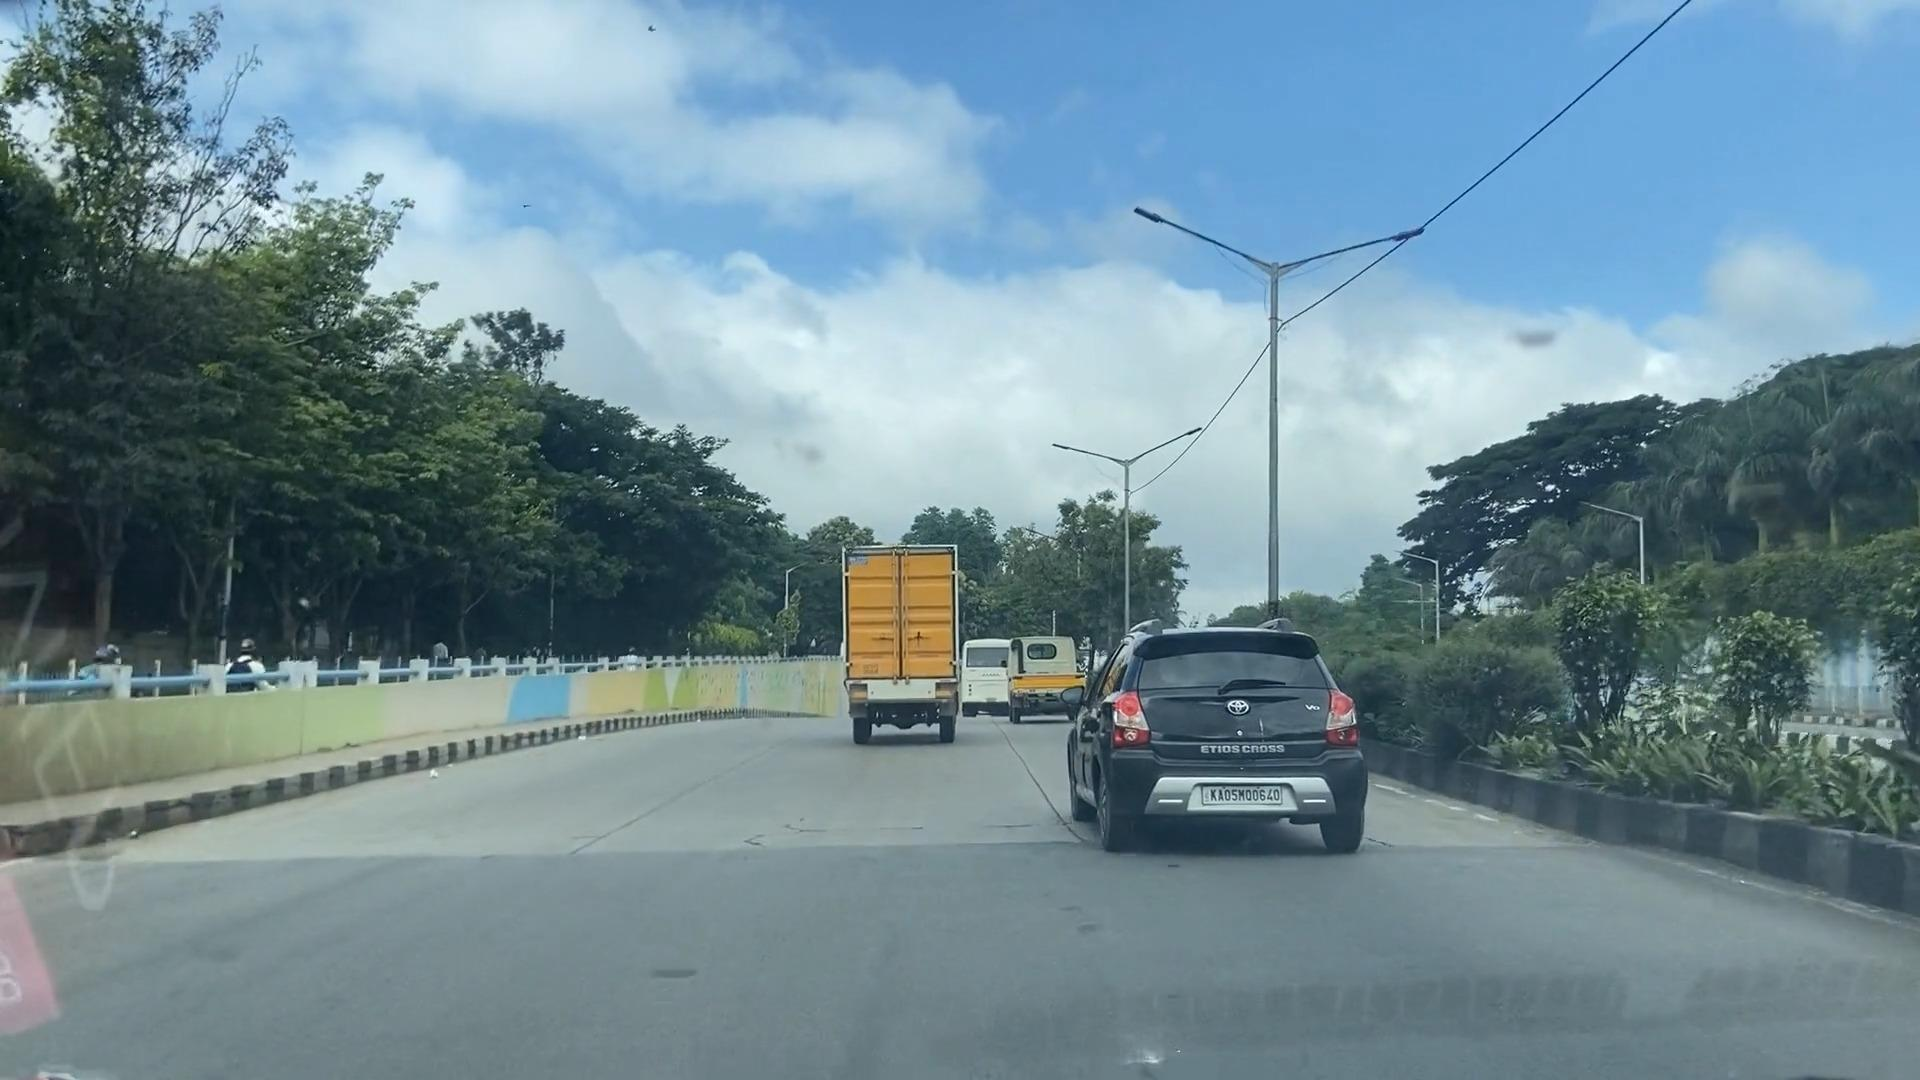HMV: (841, 553, 951, 732)
LMV: (1083, 620, 1365, 848)
